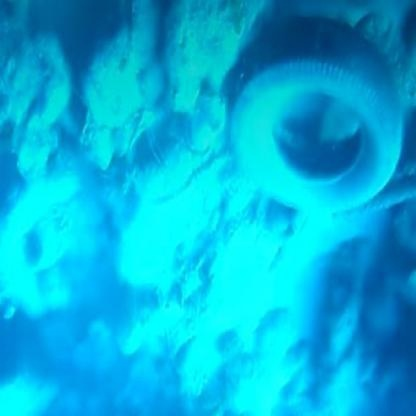tire: (231, 34, 411, 220)
